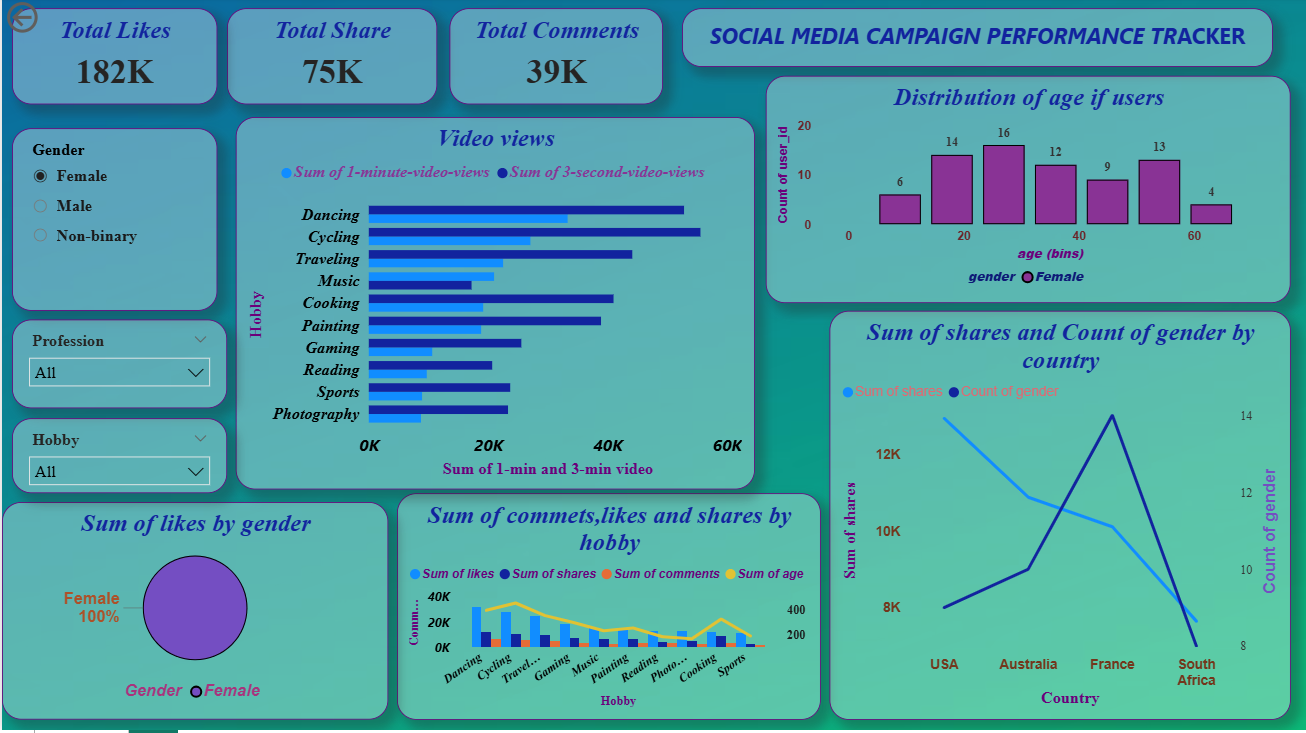

The page's visual inventory and layout, read from the dashboard file:
{"tool":"powerbi","page":{"name":"Page 1","canvas":[1280,720],"ordinal":0},"visuals":[{"type":"textbox","box":[667.5,11,580.4,57.7],"z":0},{"type":"card","title":"Total Share","fields":{"Values":["Sum(social_media_analysis.shares)"]},"box":[220.9,11,206.1,94.5],"z":1000},{"type":"card","title":"Total Likes","fields":{"Values":["Sum(social_media_analysis.likes)"]},"box":[9.8,11,201.2,94.5],"z":2000},{"type":"card","title":"Total Comments","fields":{"Values":["Sum(social_media_analysis.comments)"]},"box":[439.3,11,209.8,94.5],"z":3000},{"type":"lineClusteredColumnComboChart","title":"Sum of commets,likes and shares by hobby","fields":{"Category":["social_media_analysis.hobby"],"Y":["Sum(social_media_analysis.likes)","Sum(social_media_analysis.shares)","Sum(social_media_analysis.comments)"],"Y2":["Sum(social_media_analysis.age)"]},"box":[387.7,487.1,416,222.1],"z":4000},{"type":"clusteredBarChart","title":"Video views","fields":{"Category":["social_media_analysis.hobby"],"Y":["Sum(social_media_analysis.1-minute-video-views)","Sum(social_media_analysis.3-second-video-views)"]},"box":[229.4,117.8,509.2,365.6],"z":5000},{"type":"pieChart","fields":{"Category":["social_media_analysis.gender"],"Y":["Sum(social_media_analysis.likes)"]},"box":[0,495.7,379.1,213.5],"z":6000},{"type":"columnChart","title":"Distribution of age if users","fields":{"Category":["social_media_analysis.age (bins)"],"Y":["CountNonNull(social_media_analysis.user_id)"],"Series":["social_media_analysis.gender"]},"box":[749.7,77.3,515.3,223.3],"z":7000},{"type":"slicer","fields":{"Values":["social_media_analysis.gender"]},"box":[9.8,128.8,201.2,179.1],"z":8000},{"type":"actionButton","box":[0,0,100,40],"z":9000},{"type":"slicer","fields":{"Values":["social_media_analysis.profession"]},"box":[9.8,316.6,211,87.1],"z":10000},{"type":"slicer","fields":{"Values":["social_media_analysis.hobby"]},"box":[9.8,413.5,211,73.6],"z":11000},{"type":"lineChart","fields":{"Category":["social_media_analysis.country"],"Y":["Sum(social_media_analysis.shares)"],"Y2":["CountNonNull(social_media_analysis.gender)"]},"box":[812.3,308,452.8,401.2],"z":12000}]}

Visuals, with their boxes in screenshot pixels (x1, y1, x2, y2), scaled from the page's 1280x720 canvas onto the 1306x733 screenshot:
textbox: [681, 11, 1273, 70]
"Total Share" card: [225, 11, 436, 107]
"Total Likes" card: [10, 11, 215, 107]
"Total Comments" card: [448, 11, 662, 107]
"Sum of commets,likes and shares by hobby" lineClusteredColumnComboChart: [396, 496, 820, 722]
"Video views" clusteredBarChart: [234, 120, 754, 492]
pieChart - social_media_analysis.gender x Sum(social_media_analysis.likes): [0, 505, 387, 722]
"Distribution of age if users" columnChart: [765, 79, 1291, 306]
slicer - social_media_analysis.gender: [10, 131, 215, 313]
actionButton: [0, 0, 102, 41]
slicer - social_media_analysis.profession: [10, 322, 225, 411]
slicer - social_media_analysis.hobby: [10, 421, 225, 496]
lineChart - social_media_analysis.country x Sum(social_media_analysis.shares): [829, 314, 1291, 722]
